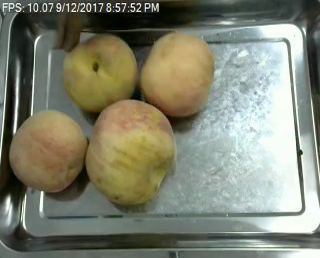Peach: (84, 99, 176, 206), (61, 30, 140, 112), (8, 110, 85, 192), (140, 32, 214, 117)
